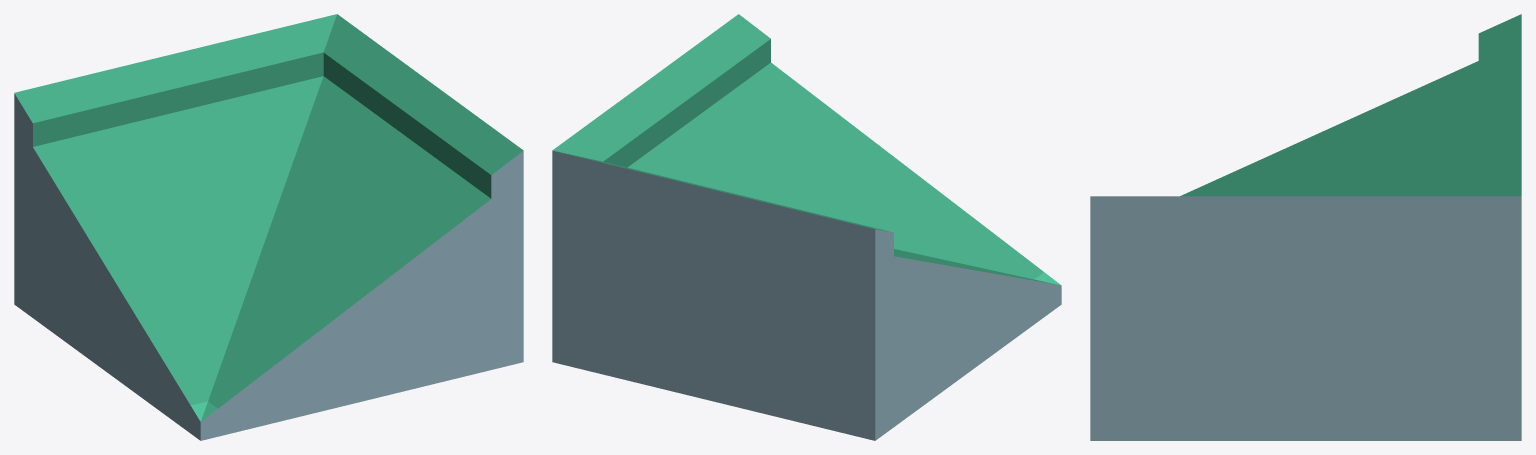
The model's file is roofCornerInner.obj.
3 views of the same model, side by side, from view 1: azimuth 30°, elevation 25°; view 2: azimuth 150°, elevation 25°; view 3: azimuth 270°, elevation 25° (orthographic). The views are drawn at different scales.
Visible parts, largest first — view 1: roofCornerInner; view 2: roofCornerInner; view 3: roofCornerInner.
Boxes of the visible parts, box(x1,y1,x2,y2) form: roofCornerInner: box(14, 14, 523, 440); roofCornerInner: box(552, 14, 1061, 440); roofCornerInner: box(1090, 14, 1521, 440).
Bounding box in the file's own units: 1 × 0.626 × 1.
